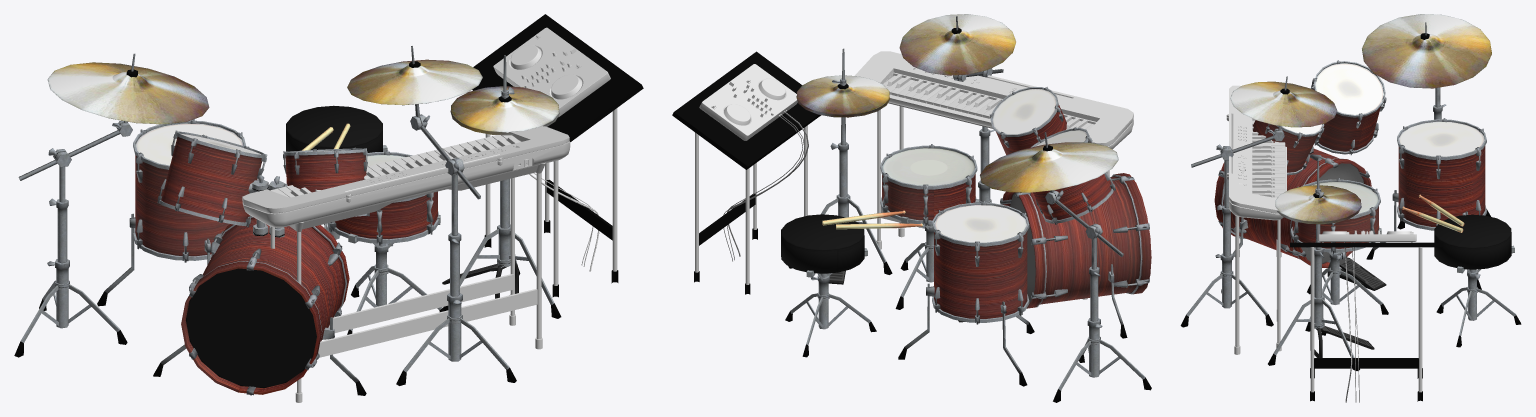
Rendered from Drum.fbx.
3 renders of one model, left to right at view 1: azimuth 30°, elevation 25°; view 2: azimuth 150°, elevation 25°; view 3: azimuth 270°, elevation 25°, orthographic. The views are drawn at different scales.
Parts seen in each view (by area): view 1: Drums, Piano, DJTable, WML_SEQ4; view 2: Drums, Piano, DJTable, WML_SEQ4, Drumsticks.001, Drumsticks; view 3: Drums, Piano, DJTable, WML_SEQ4, Drumsticks.
Part boxes in pixels (x1,y1,x2,y2): Drums: (14,46,561,395); Piano: (242,126,570,402); DJTable: (472,14,643,297); WML_SEQ4: (493,27,610,117); Drums: (781,14,1151,402); Piano: (854,51,1133,299); DJTable: (672,51,821,294); WML_SEQ4: (699,64,797,140); Drumsticks.001: (836,223,923,229); Drumsticks: (822,210,905,225); Drums: (1180,14,1521,370); Piano: (1226,85,1286,354); DJTable: (1290,242,1443,402); WML_SEQ4: (1318,230,1416,242); Drumsticks: (1402,206,1463,232).
Size of the model in its own units: 244 by 131 by 166.
